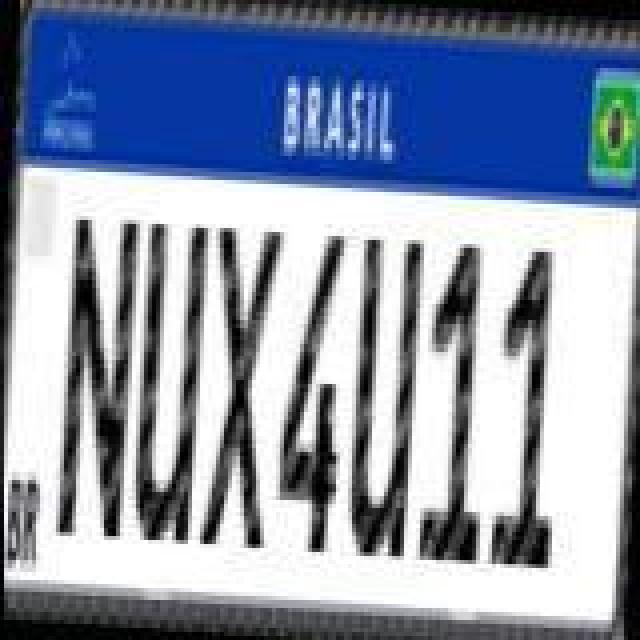1: (414, 234, 502, 574), (488, 238, 572, 570)
4: (272, 224, 356, 560)
N: (52, 206, 144, 546)
U: (338, 230, 426, 570), (128, 212, 212, 548)
X: (196, 218, 288, 558)
